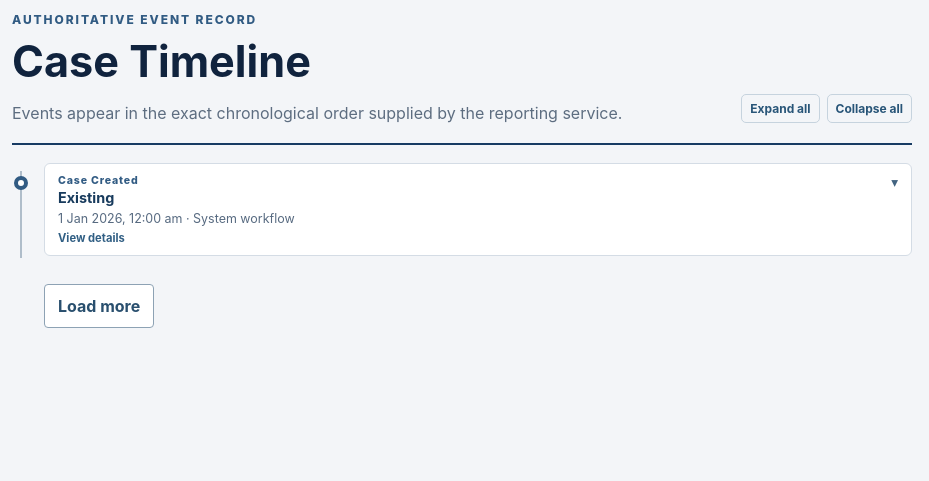
Test: Case Timeline › retains existing events when pagination fails and permits retry
Expected: the text "Existing" is shown, [58,189,114,206]
Click the button "Load more".
click(99, 306)  # box [44,284,154,328]
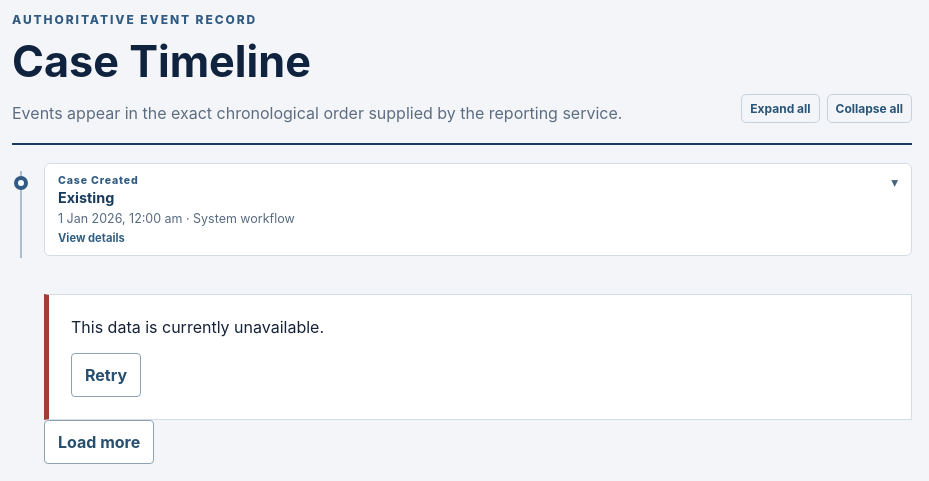
Expected: the text "Existing" is shown, [58,189,114,206]
Expected: the message "This data is currently unavailable. Retry" is shown, [44,294,912,420]
Click the button "Retry".
click(106, 375)  # box [71,353,141,397]
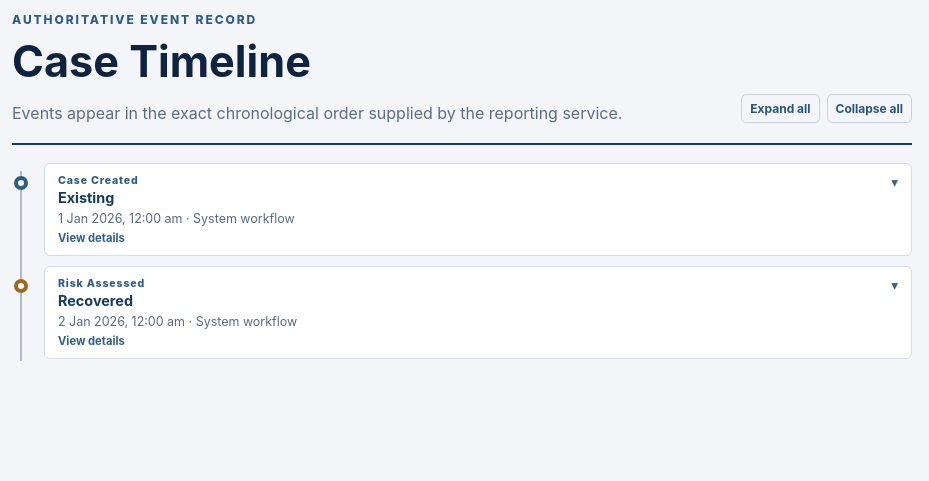
Expected: the text "Recovered" is shown, [58,292,145,309]
